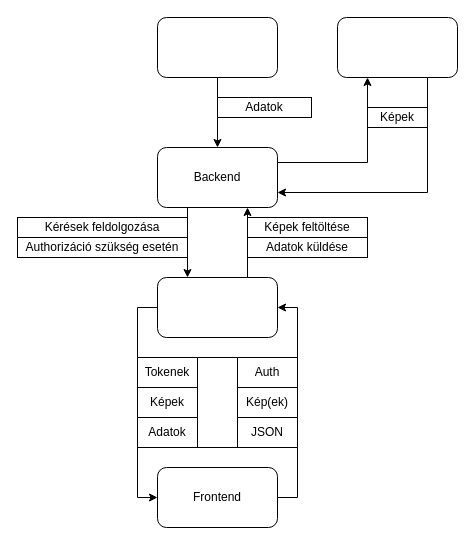
The diagram is 475 pixels wide and 545 high, and some of its shapes have lost their labels. Each missing label, with the box of its shape:
Adatbázis: (156, 16, 278, 78)
Middleware: (156, 276, 278, 338)
Uploads mappa: (336, 16, 458, 78)
XHR: (196, 356, 238, 448)
